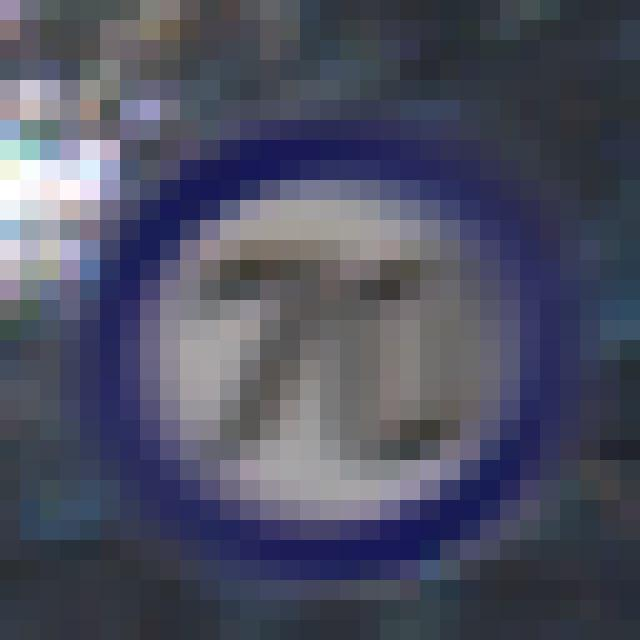SPEED LIMIT 70: (117, 128, 565, 578)
